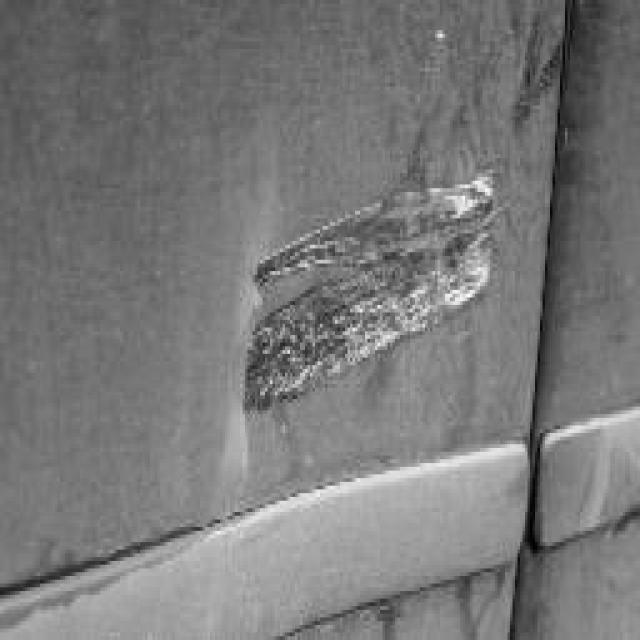Door: (202, 105, 495, 565)
